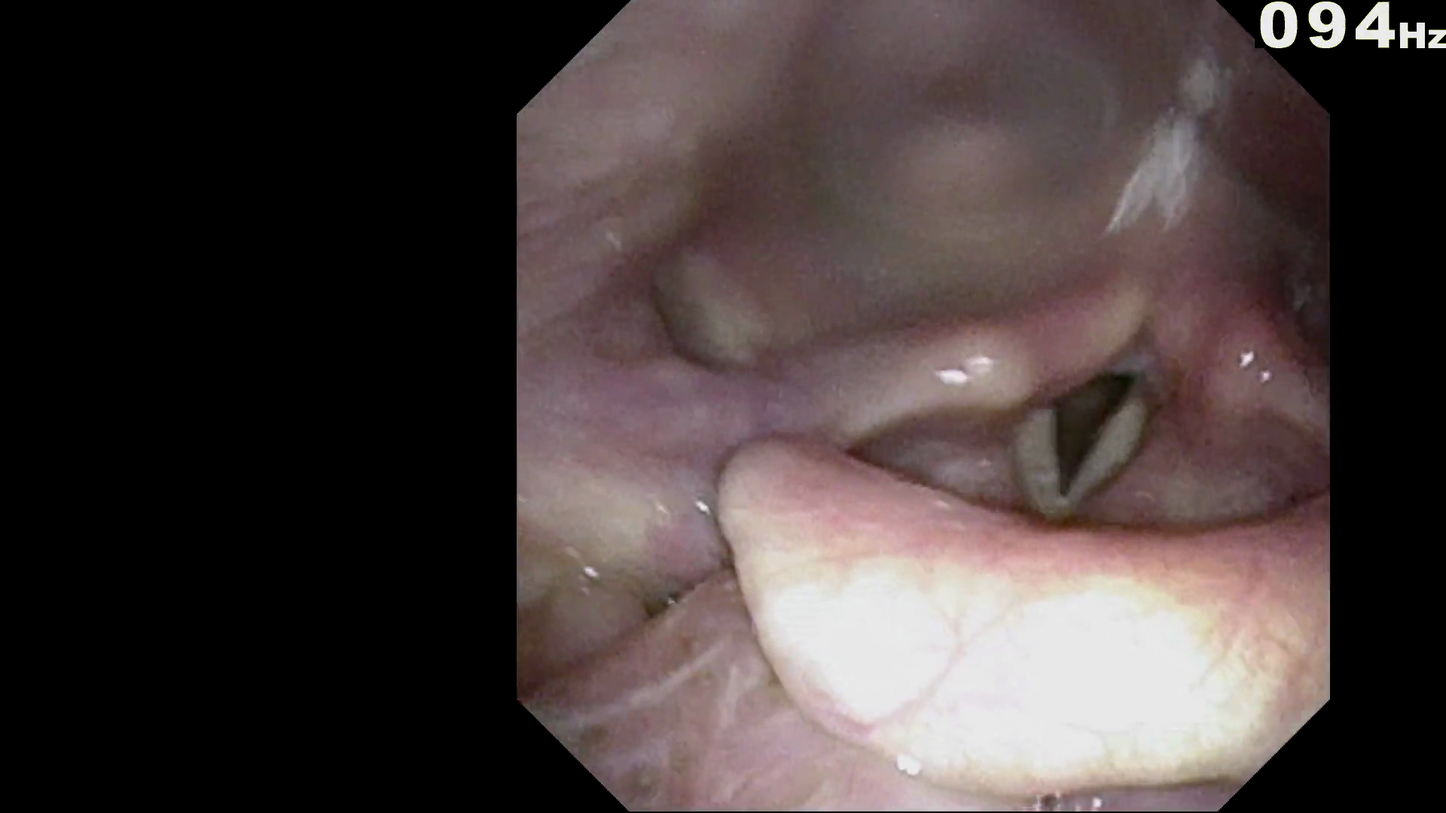epiglottis: (762, 470, 1310, 695)
trachea: (1027, 365, 1163, 489)
